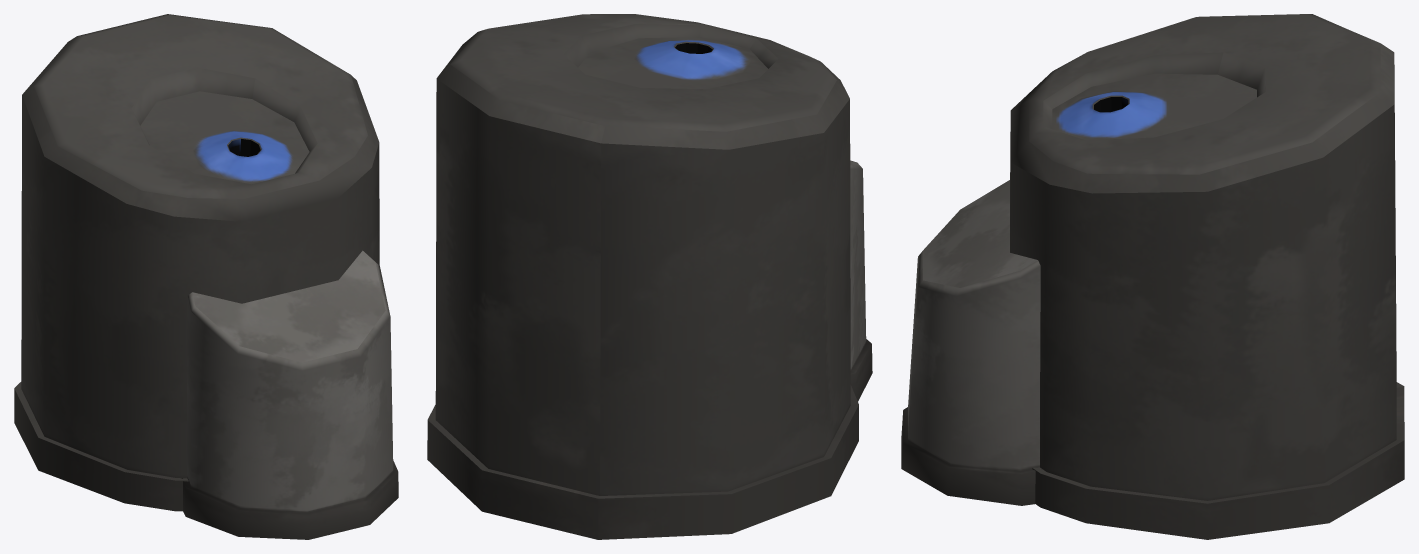
Rendered from PencilSharpener.fbx.
3 renders of one model, left to right at view 1: azimuth 30°, elevation 25°; view 2: azimuth 150°, elevation 25°; view 3: azimuth 270°, elevation 25°, orthographic. The views are drawn at different scales.
Parts seen in each view (by area): view 1: PencilSharpener, PencilShavingsTray; view 2: PencilSharpener, PencilShavingsTray; view 3: PencilSharpener, PencilShavingsTray.
Part boxes in pixels (x1=…): PencilSharpener: x1=14, y1=14, x2=379, y2=511; PencilShavingsTray: x1=181, y1=250, x2=398, y2=539; PencilSharpener: x1=427, y1=14, x2=858, y2=539; PencilShavingsTray: x1=850, y1=160, x2=872, y2=401; PencilSharpener: x1=1010, y1=14, x2=1404, y2=539; PencilShavingsTray: x1=901, y1=180, x2=1042, y2=505.
Size of the model in its own units: 12.25 by 12.65 by 14.88.
2 materials, 2 textured.
